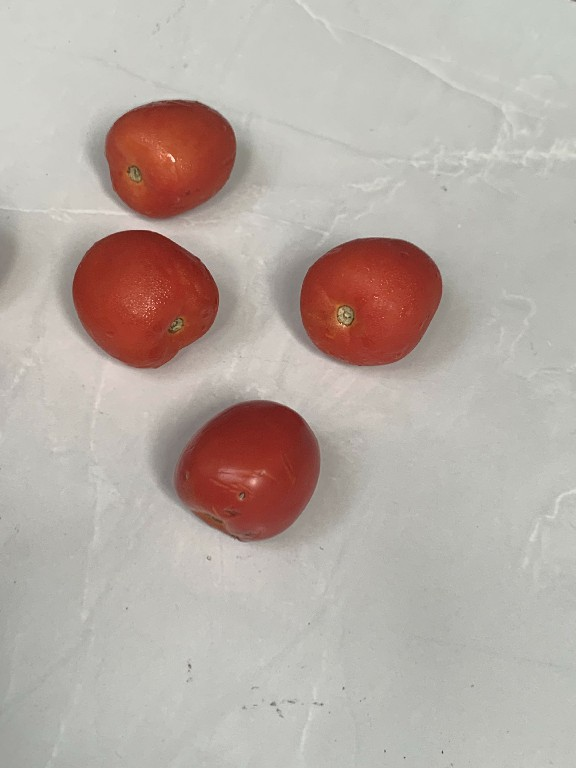NG: (169, 392, 334, 551)
OK: (75, 225, 233, 375), (291, 226, 455, 369), (95, 93, 241, 217)
